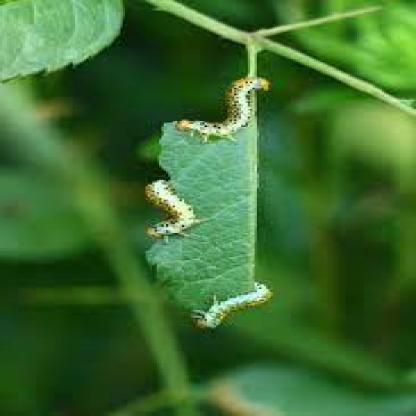sawfly: (175, 73, 276, 140), (187, 279, 280, 333), (138, 176, 208, 242)
